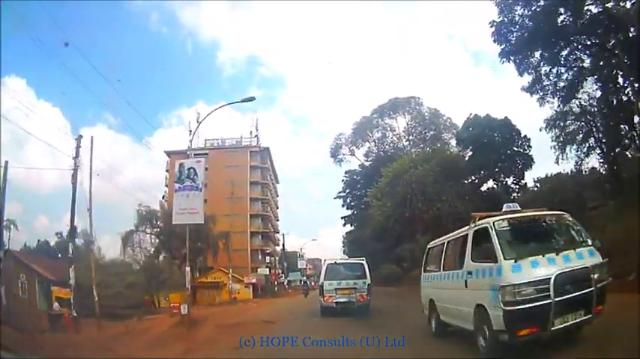van: (418, 201, 613, 358), (316, 258, 371, 313)
